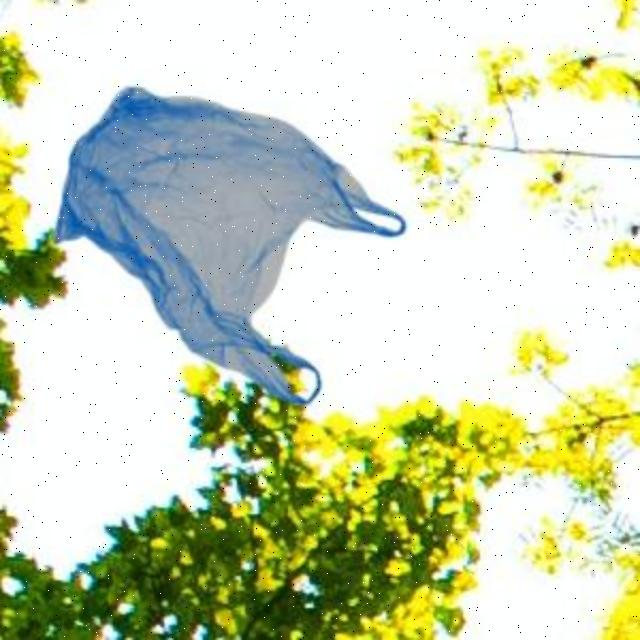plastic_bag: (51, 84, 409, 403)
